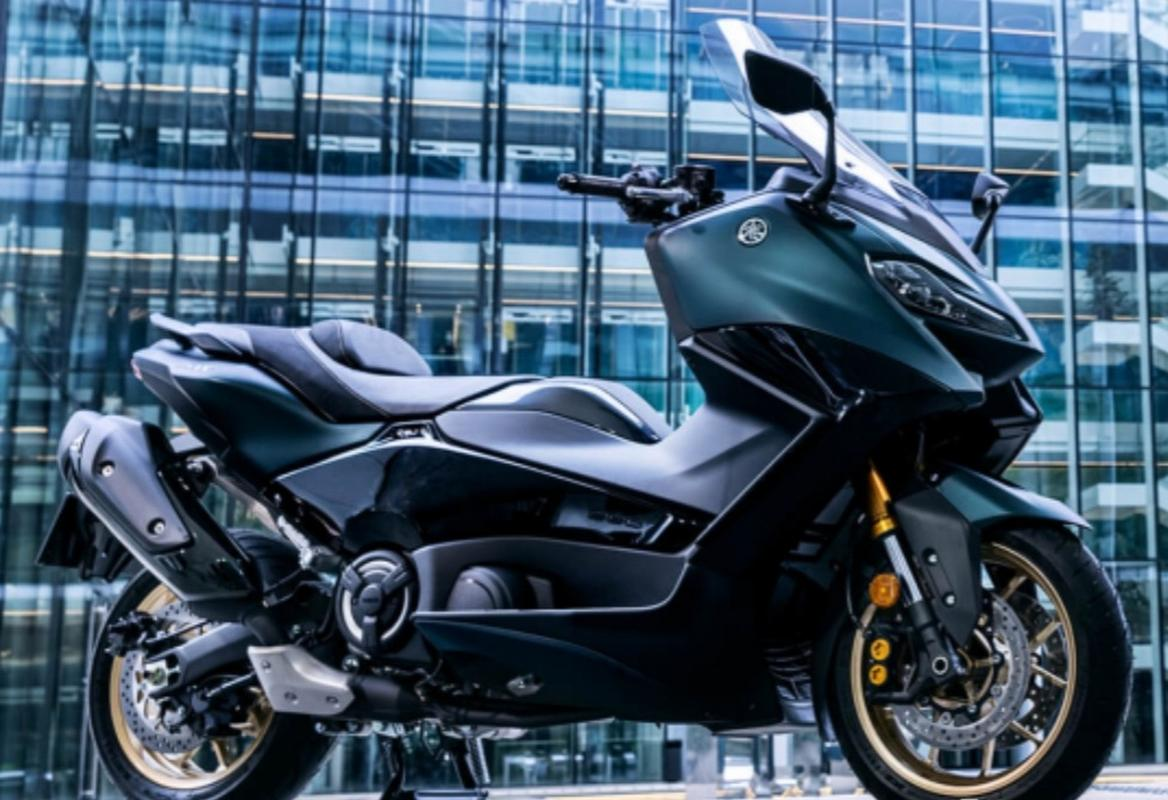摩托车: (8, 168, 1136, 798)
